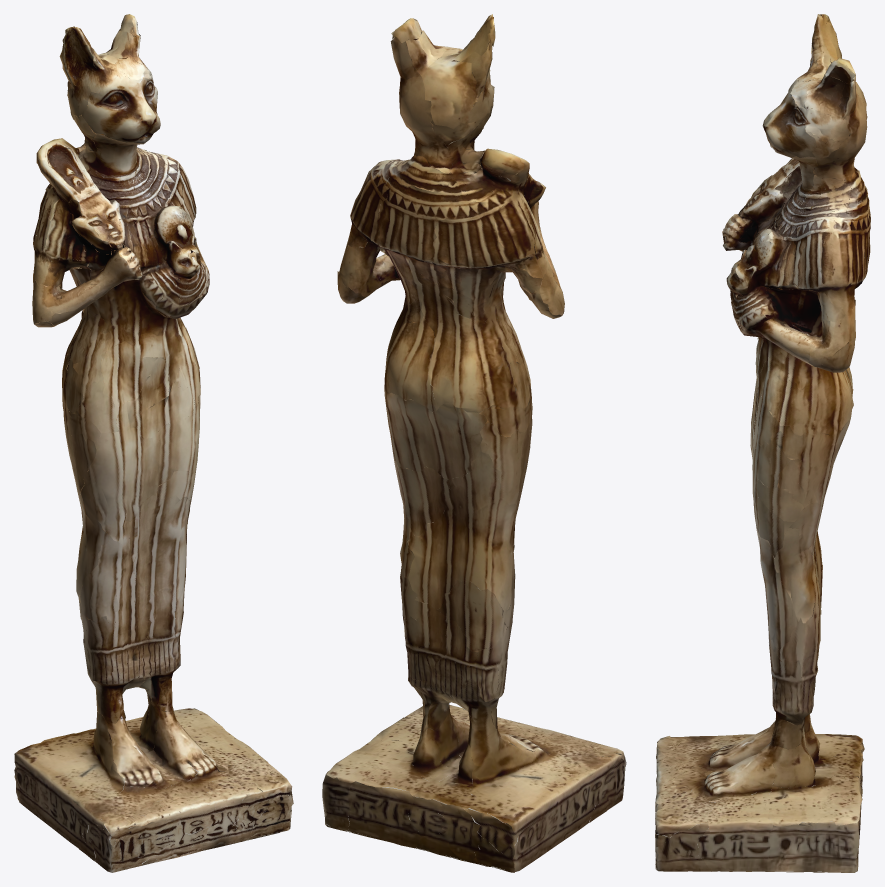
Rendered from Sekhmet.obj.
3 views of the same model, side by side, from view 1: azimuth 30°, elevation 25°; view 2: azimuth 150°, elevation 25°; view 3: azimuth 270°, elevation 25° (orthographic). The views are drawn at different scales.
Parts seen in each view (by area): view 1: Sekhmet; view 2: Sekhmet; view 3: Sekhmet.
Boxes of the visible parts, x1,y1,x2,y2 form: Sekhmet: [14, 14, 293, 872]; Sekhmet: [322, 14, 626, 872]; Sekhmet: [655, 14, 870, 872].
Size of the model in its own units: 27.31 by 105 by 25.94.
